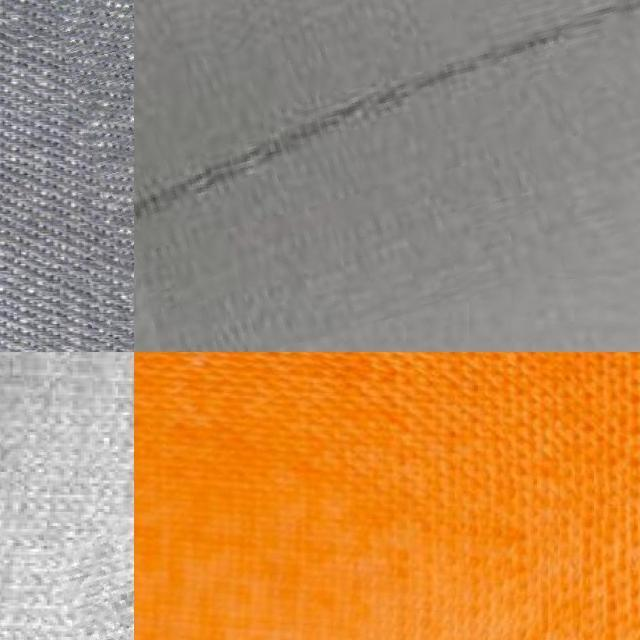Thread_other: (134, 0, 640, 341), (59, 0, 134, 352), (72, 504, 134, 640)
